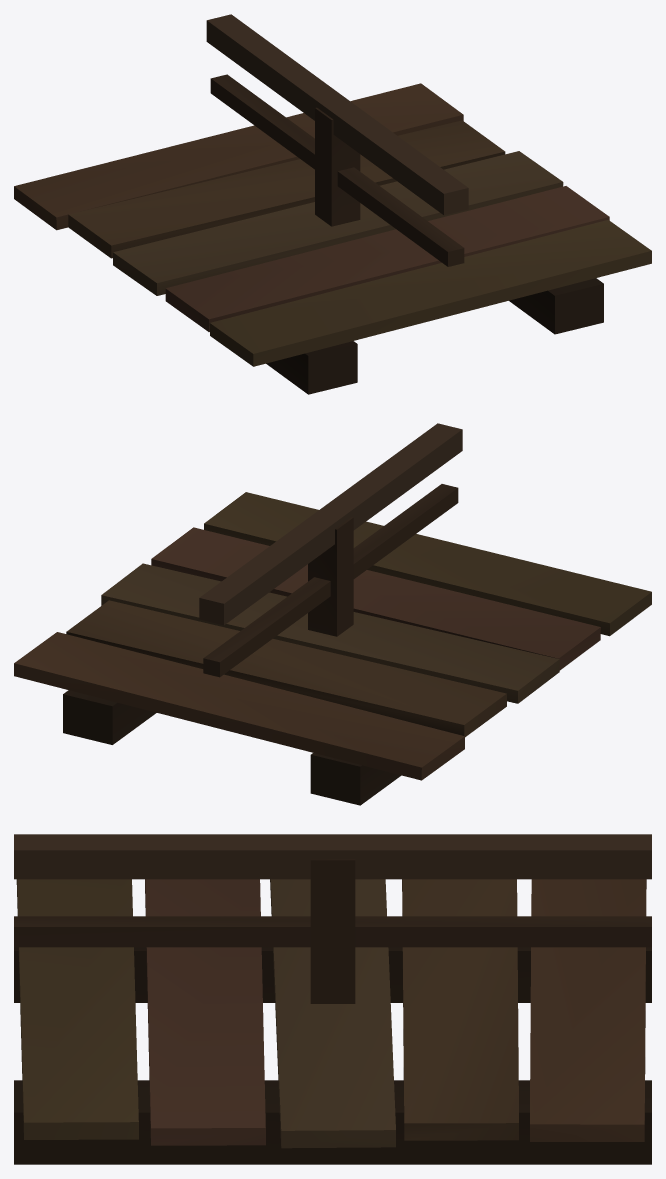
File: bridge_lod1.glb
The picture shows the model from 3 angles, top to bottom: view 1: azimuth 30°, elevation 25°; view 2: azimuth 150°, elevation 25°; view 3: azimuth 270°, elevation 25°; orthographic projection. The views are drawn at different scales.
Parts seen in each view (by area): view 1: v0, v1; view 2: v0, v1; view 3: v0, v1.
Part boxes in pixels (x1=…): v0: x1=14, y1=83, x2=651, y2=394; v1: x1=206, y1=14, x2=468, y2=266; v0: x1=14, y1=492, x2=651, y2=805; v1: x1=199, y1=423, x2=462, y2=677; v0: x1=14, y1=879, x2=651, y2=1164; v1: x1=14, y1=834, x2=651, y2=1003.
Size of the model in its own units: 1.01 by 0.39 by 1.
